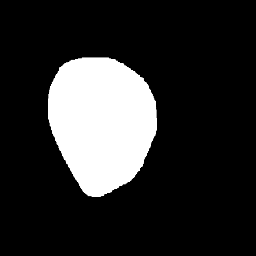mass: (50, 62, 144, 193)
